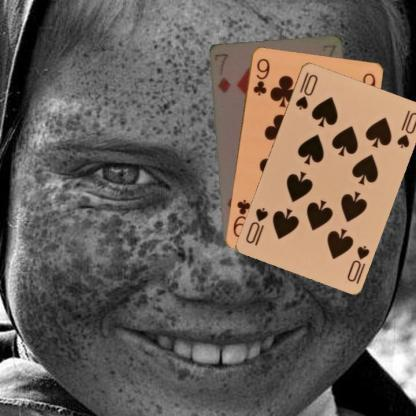10s: (292, 69, 319, 111), (344, 242, 371, 283)
7d: (212, 50, 232, 94)
9c: (250, 56, 271, 98)
